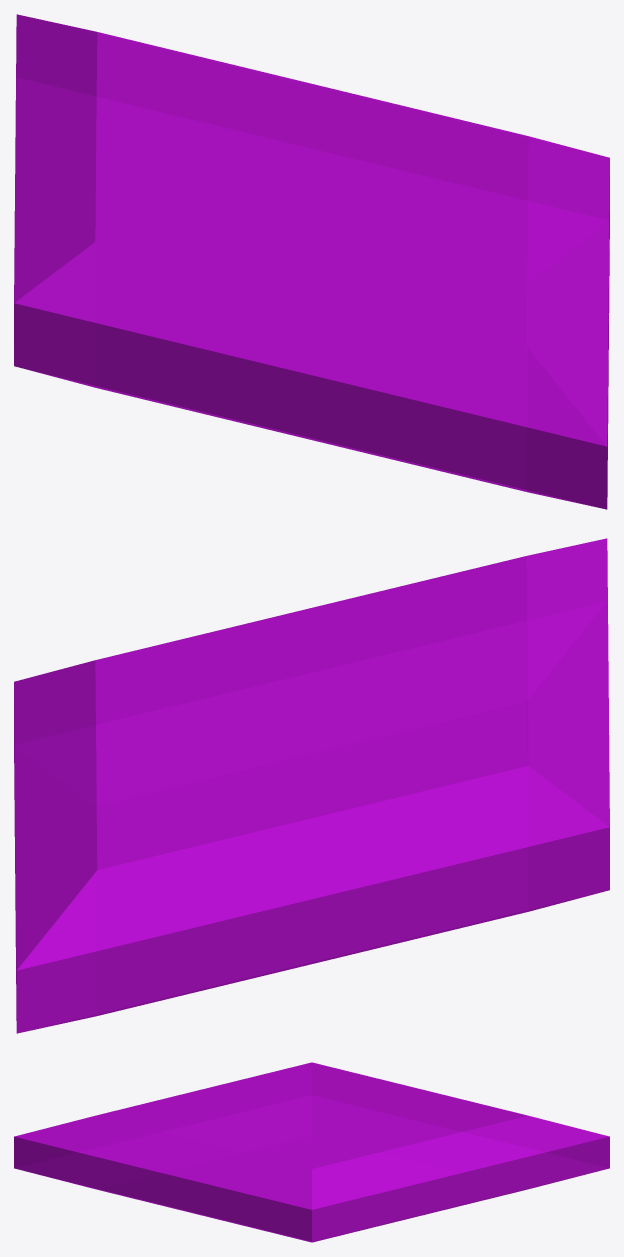
The model's file is ore-fragment.fbx.
3 renders of one model, top to bottom at view 1: azimuth 30°, elevation 25°; view 2: azimuth 150°, elevation 25°; view 3: azimuth 270°, elevation 25°, orthographic. The views are drawn at different scales.
Visible parts, largest first — view 1: topaz tim trong suot; view 2: topaz tim trong suot; view 3: topaz tim trong suot.
Boxes of the visible parts, x1=… form: topaz tim trong suot: x1=14, y1=14, x2=609, y2=509; topaz tim trong suot: x1=14, y1=538, x2=609, y2=1033; topaz tim trong suot: x1=14, y1=1062, x2=609, y2=1242.
Size of the model in its own units: 2988 by 699 by 5130.
